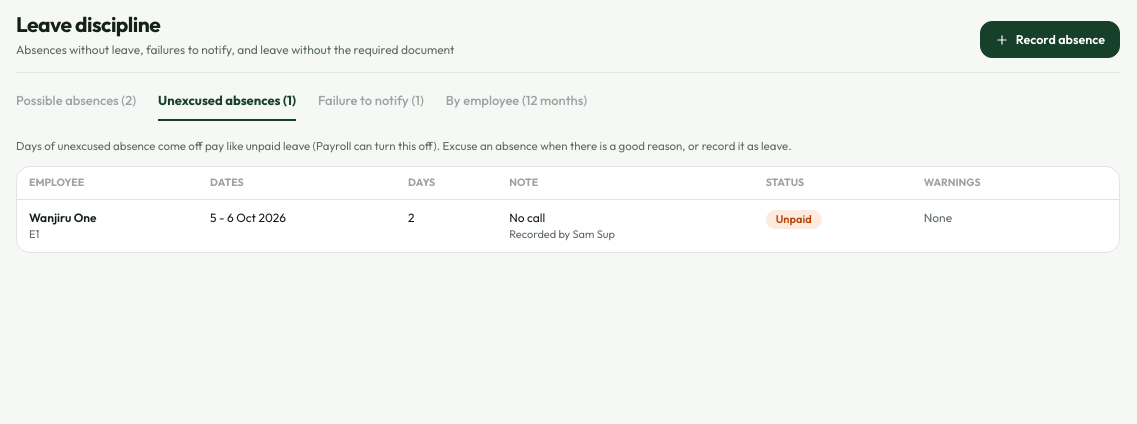
Test: Possible absences › a supervisor records and dismisses for their team but has no settings
The image size is (1137, 424).
Click the button "Possible absences (2)".
click(76, 106)  # box [16,91,136,120]
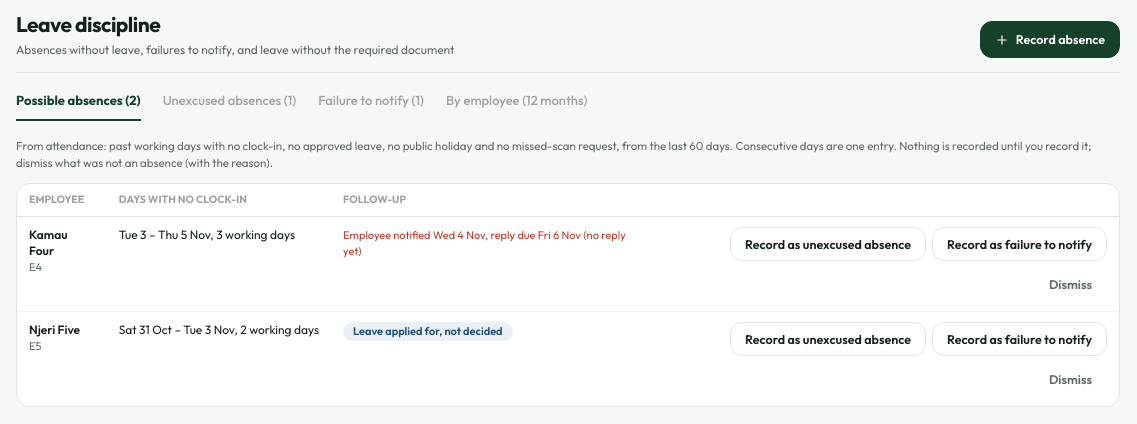
Check: the button with aria-label "Dismiss: Kamau Four, 3 - 5 Nov 2026" is shown, box [1034,267,1107,301]
